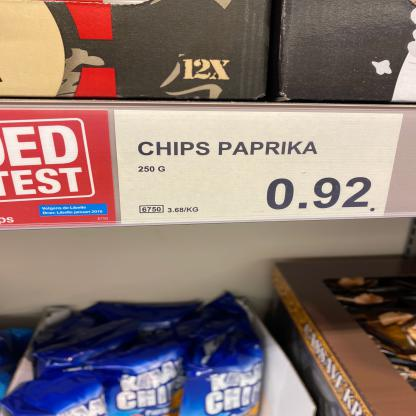prtg: (114, 111, 406, 226)
